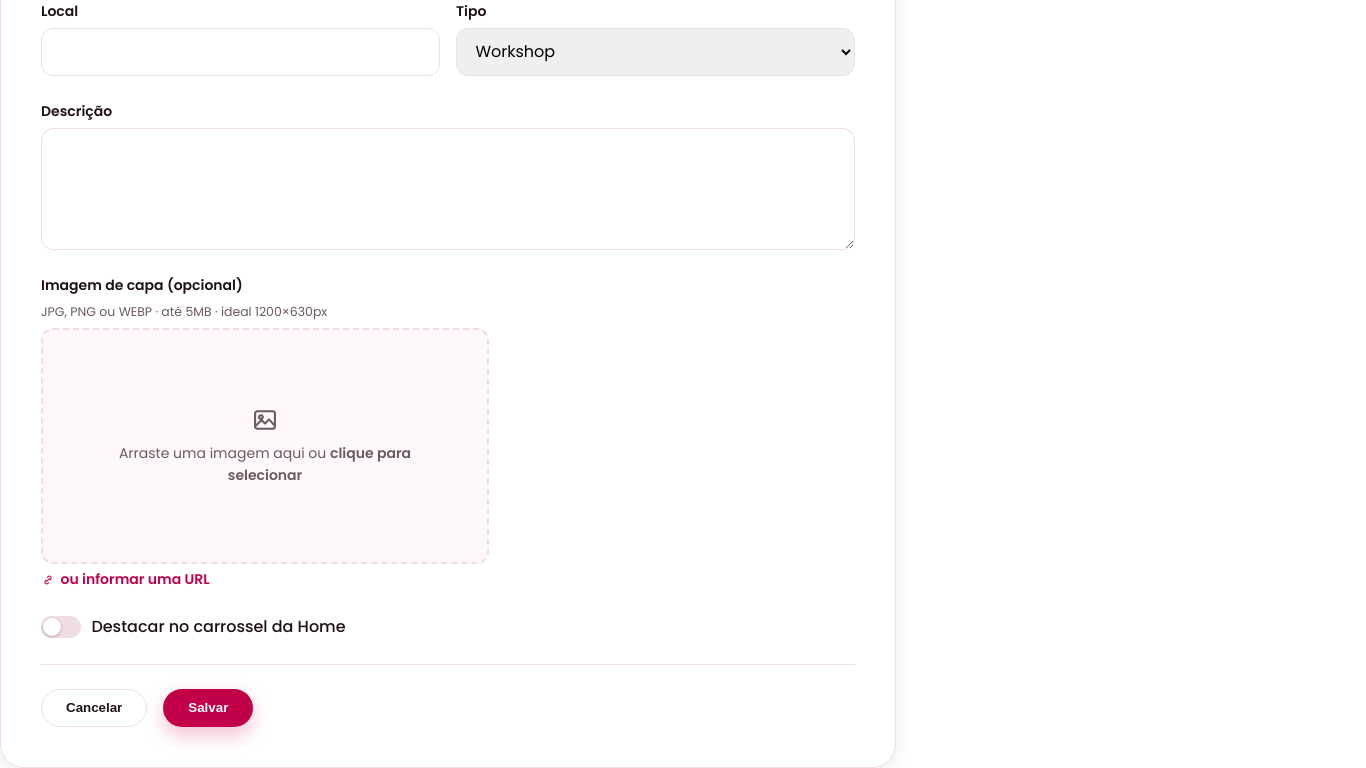
it: EventForm (create) › blocks submit and shows field errors when required fields are empty
The image size is (1366, 768).
(page scrolled)
Step 1. Click the button "Salvar" → x=208, y=708, box [163, 689, 253, 727]
(page scrolled)
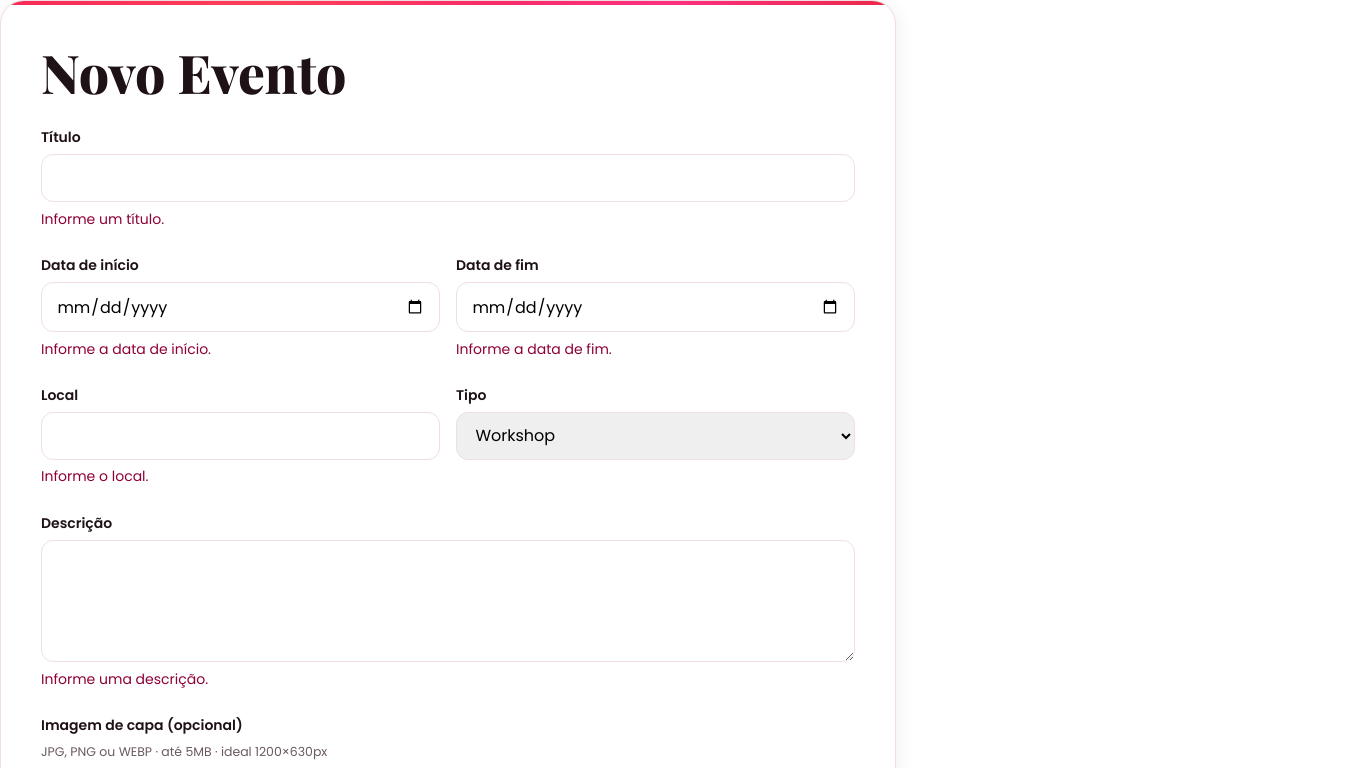
Now the text "Informe um título." is shown, box [41, 209, 164, 229]
